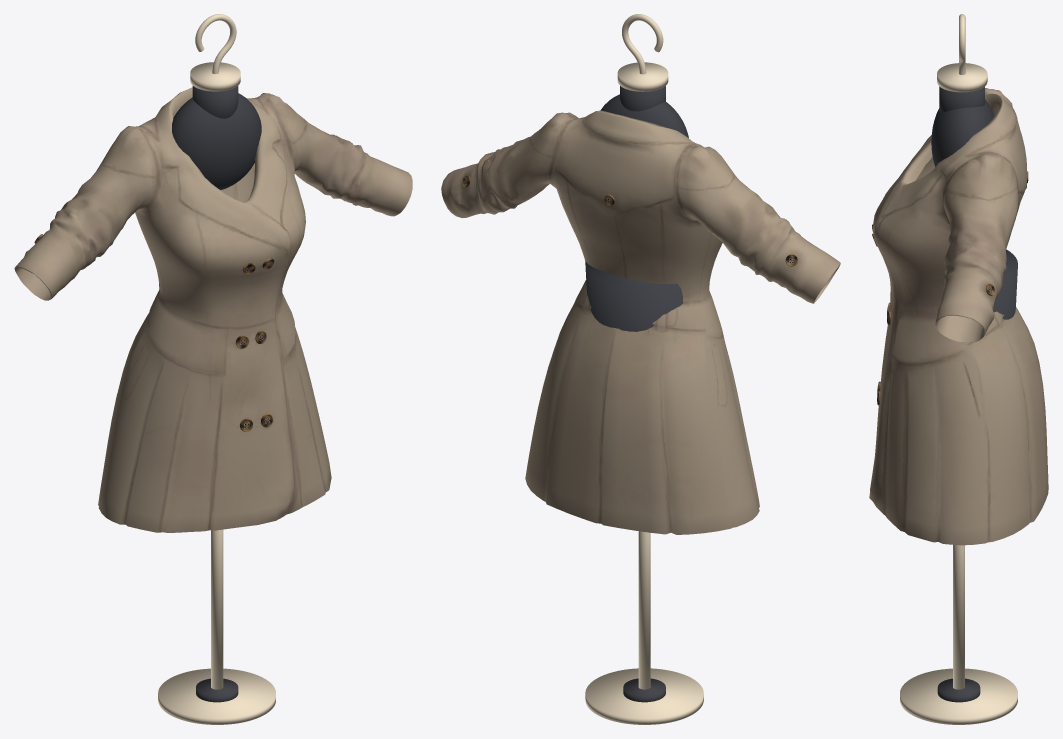
File: hf-couture-coat-v1.glb
The picture shows the model from 3 angles, left to right: view 1: azimuth 30°, elevation 25°; view 2: azimuth 150°, elevation 25°; view 3: azimuth 270°, elevation 25°; orthographic projection.
Visible parts, largest first — view 1: coat_low, AtelierChestCore, GoldStandBase, GoldStandPole, GoldNeckFinial, AtelierNeckForm, buttons_low, InvtryHangerHook, ObsidianBaseCollar; view 2: coat_low, GoldStandBase, AtelierInnerCore, GoldStandPole, AtelierChestCore, GoldNeckFinial, AtelierNeckForm, InvtryHangerHook, ObsidianBaseCollar; view 3: coat_low, GoldStandBase, AtelierChestCore, GoldStandPole, GoldNeckFinial, AtelierInnerCore, AtelierNeckForm, ObsidianBaseCollar, InvtryHangerHook.
Boxes of the visible parts, <box> form: coat_low: <box>14,87,412,532</box>; AtelierChestCore: <box>172,93,261,189</box>; GoldStandBase: <box>158,668,275,724</box>; GoldStandPole: <box>211,529,223,689</box>; GoldNeckFinial: <box>190,62,240,91</box>; AtelierNeckForm: <box>192,86,238,118</box>; buttons_low: <box>34,234,274,431</box>; InvtryHangerHook: <box>195,14,236,73</box>; ObsidianBaseCollar: <box>196,678,238,702</box>; coat_low: <box>441,110,840,534</box>; GoldStandBase: <box>585,668,703,724</box>; AtelierInnerCore: <box>585,261,683,331</box>; GoldStandPole: <box>638,531,650,689</box>; AtelierChestCore: <box>600,94,688,137</box>; GoldNeckFinial: <box>617,62,668,91</box>; AtelierNeckForm: <box>620,86,665,111</box>; InvtryHangerHook: <box>622,14,663,74</box>; ObsidianBaseCollar: <box>623,678,665,702</box>; coat_low: <box>869,88,1048,545</box>; GoldStandBase: <box>900,668,1017,724</box>; AtelierChestCore: <box>931,99,994,167</box>; GoldStandPole: <box>953,545,964,689</box>; GoldNeckFinial: <box>937,63,987,92</box>; AtelierInnerCore: <box>993,249,1017,319</box>; AtelierNeckForm: <box>939,86,984,112</box>; ObsidianBaseCollar: <box>937,678,980,702</box>; InvtryHangerHook: <box>959,14,965,74</box>.
Size of the model in its own units: 1.1 by 1.85 by 0.4402.
4 materials, 2 textured.
